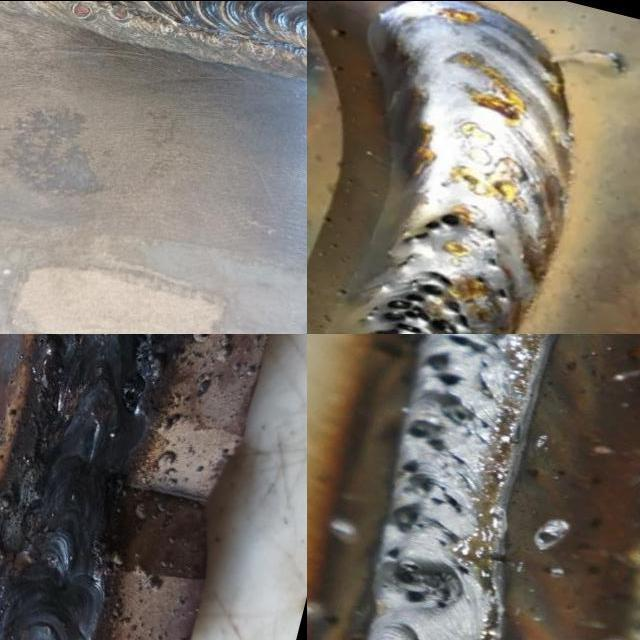defect: (406, 348, 492, 459), (348, 266, 478, 333), (382, 542, 474, 616), (390, 457, 466, 536), (396, 207, 468, 252), (445, 333, 491, 357), (133, 333, 159, 375), (119, 371, 143, 414), (63, 1, 93, 21), (210, 30, 238, 51), (106, 2, 133, 20), (247, 37, 270, 58), (477, 226, 503, 241), (494, 286, 509, 300), (484, 256, 501, 267), (473, 275, 488, 284)
